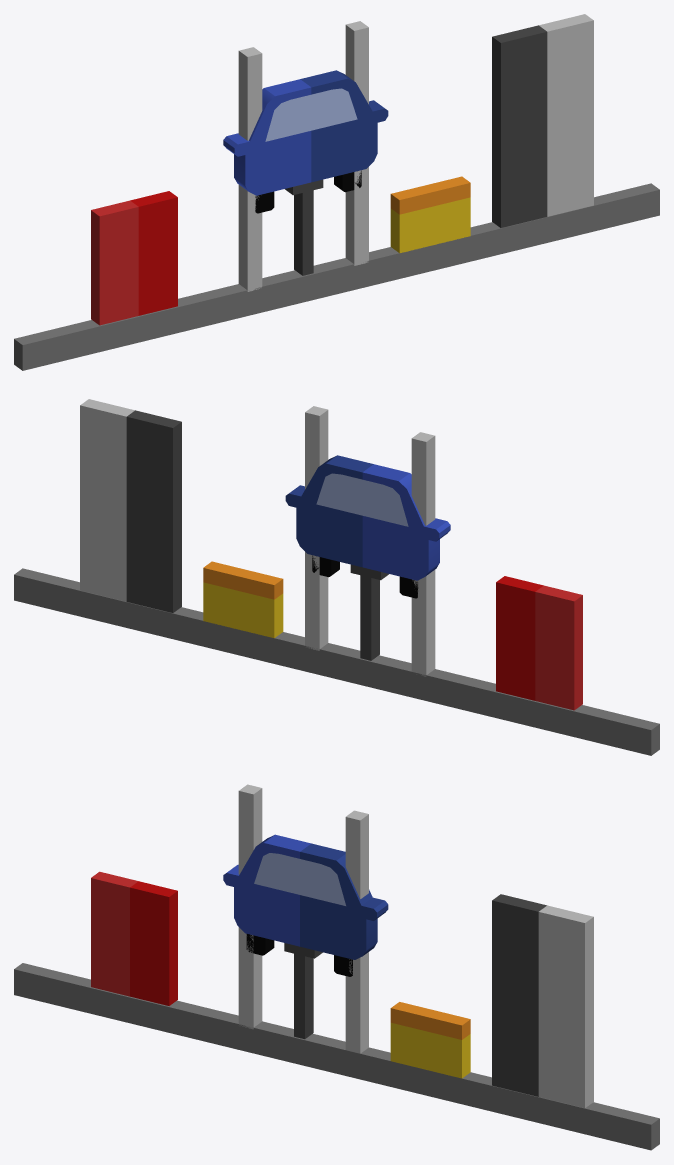
File: ICONO_GARAGE.fbx
3 views of the same model, one above another, from view 1: azimuth 30°, elevation 25°; view 2: azimuth 150°, elevation 25°; view 3: azimuth 330°, elevation 25° (orthographic).
Parts seen in each view (by area): view 1: ICONO_GARAGE; view 2: ICONO_GARAGE; view 3: ICONO_GARAGE.
Boxes of the visible parts, x1,y1,x2,y2 form: ICONO_GARAGE: [14, 14, 659, 370]; ICONO_GARAGE: [14, 399, 659, 755]; ICONO_GARAGE: [14, 784, 659, 1150].
Bounding box in the file's own units: 520 × 202 × 16.01.
